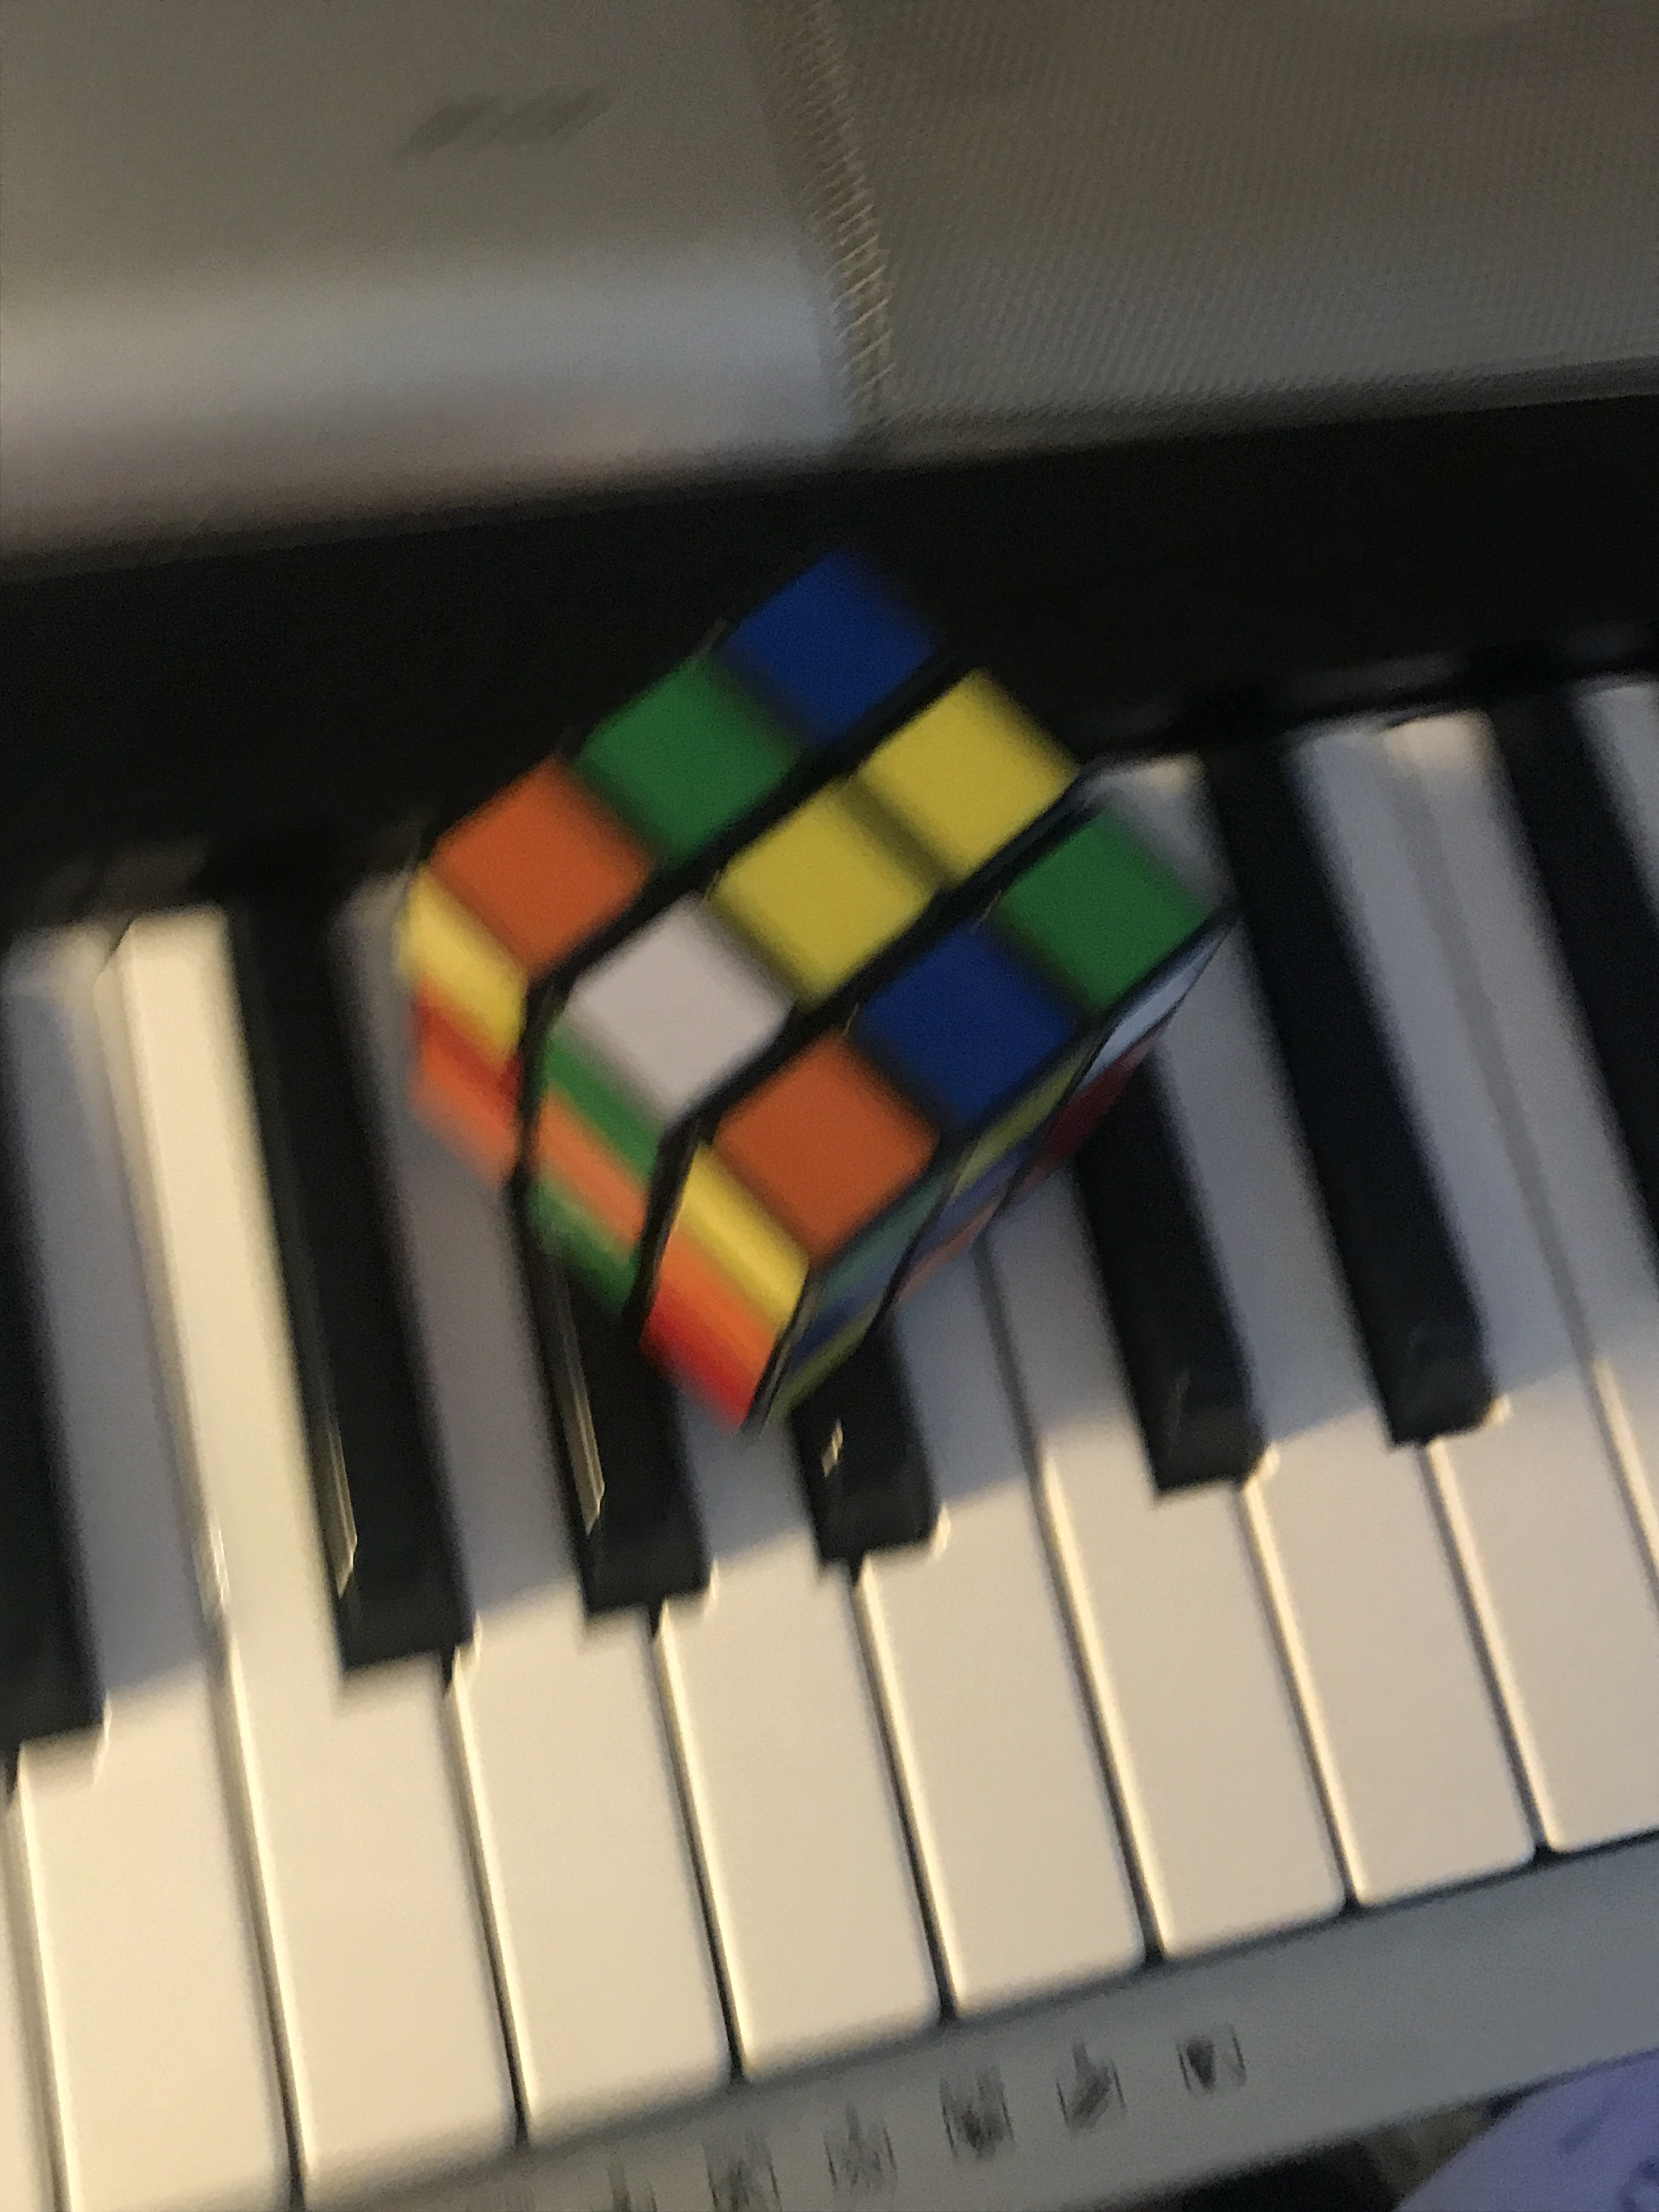rubiks: (401, 526, 1225, 1447)
